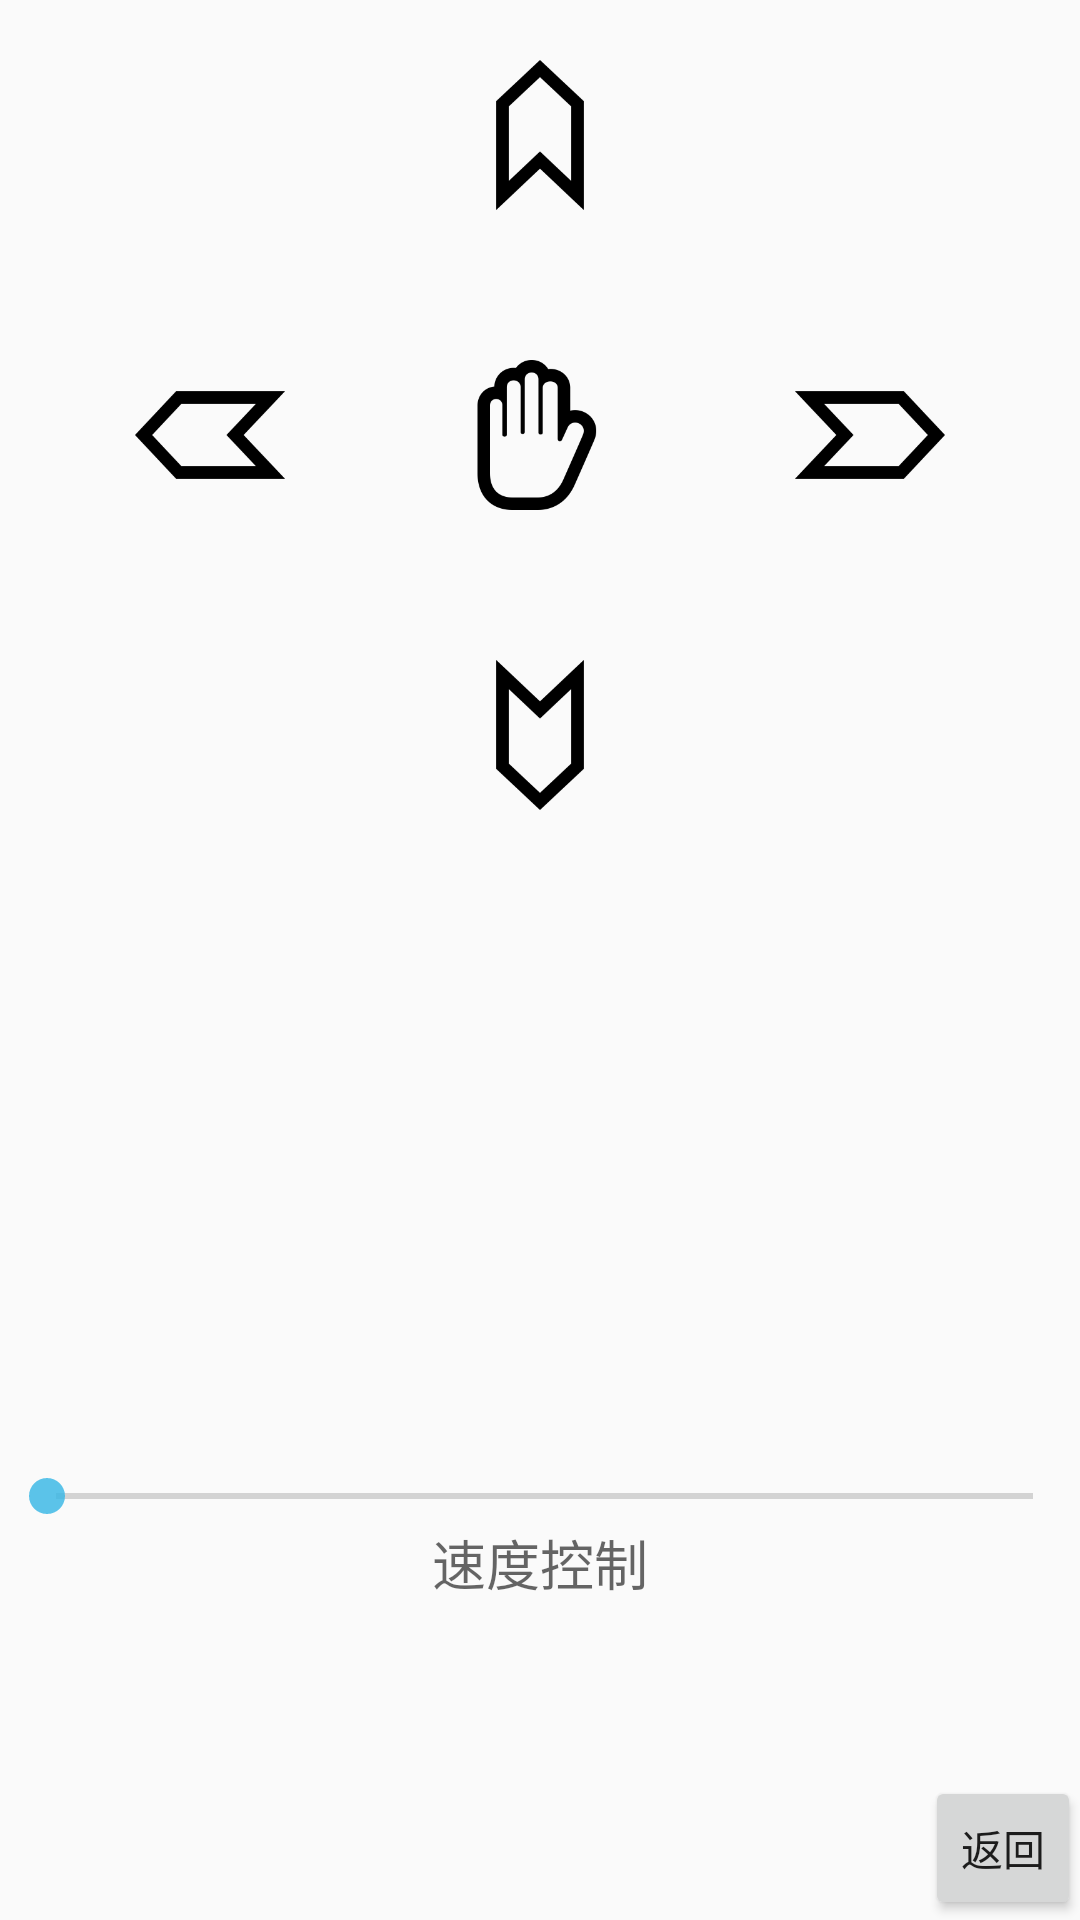

Icons on this 1080 × 1920 Android screen, each with the point to tap as (x=x, y=y):
notdown: (x=540, y=735)
notleft: (x=210, y=435)
notright: (x=870, y=435)
notstop: (x=537, y=435)
notup: (x=540, y=135)
